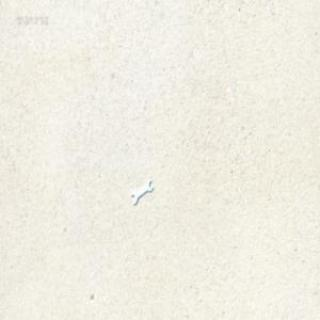Wrenchtrack_idkeyframe: (130, 178, 152, 205)
